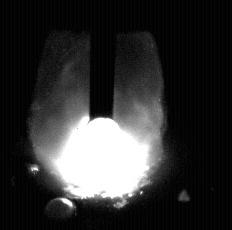arame: (90, 0, 115, 121)
poca: (28, 0, 164, 230)
